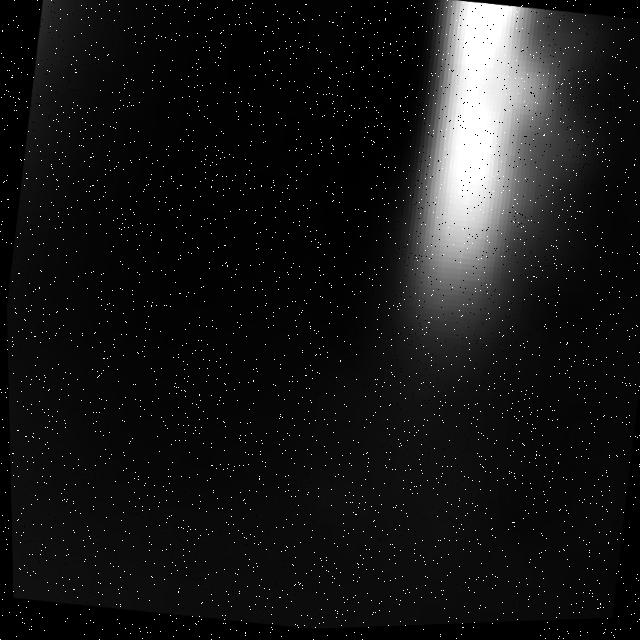person: (365, 1, 583, 398)
